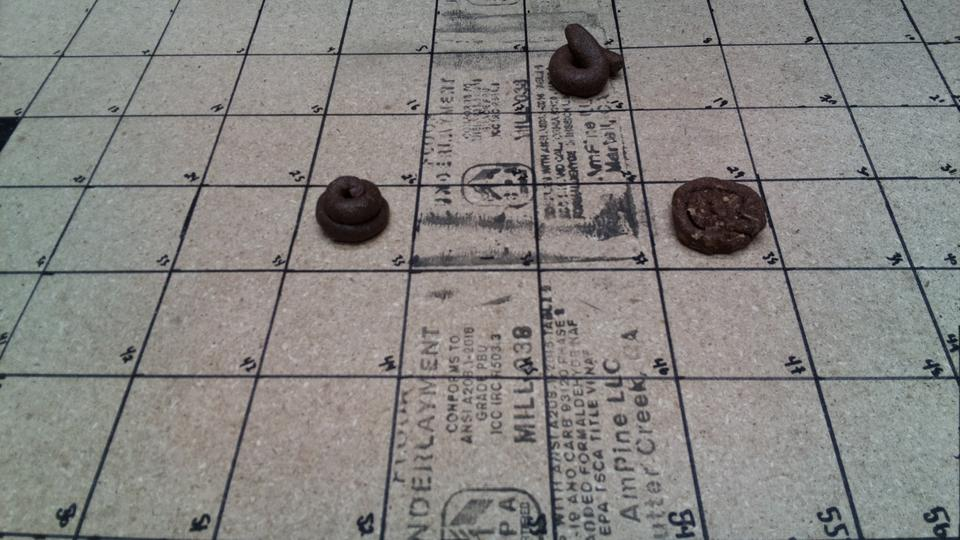poop: (673, 178, 767, 257), (549, 23, 624, 99), (315, 176, 390, 246)
